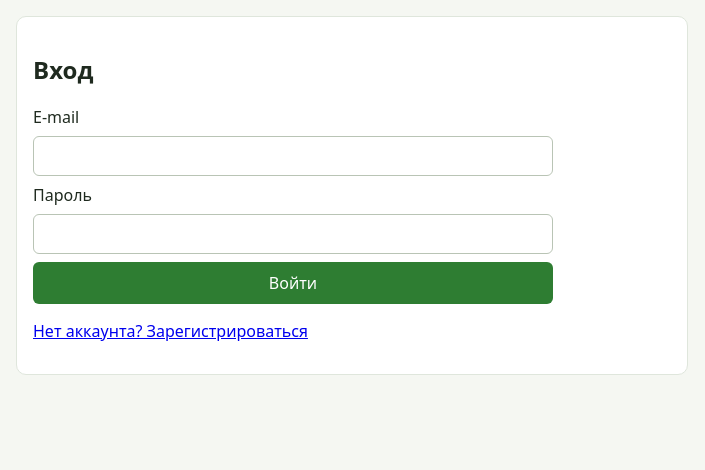
LoginPage › пока запрос идёт, кнопка «Войти» disabled и второй запрос не уходит
Type "farmer@agro.kz" into the field labelled "E-mail" at (293, 156), box [33,136,553,176]
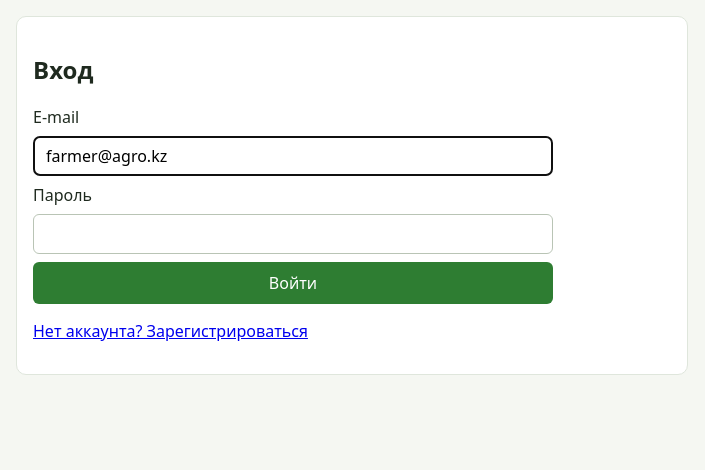
Type "secret123" into the password field labelled "Пароль" at (293, 234), box [33,214,553,254]
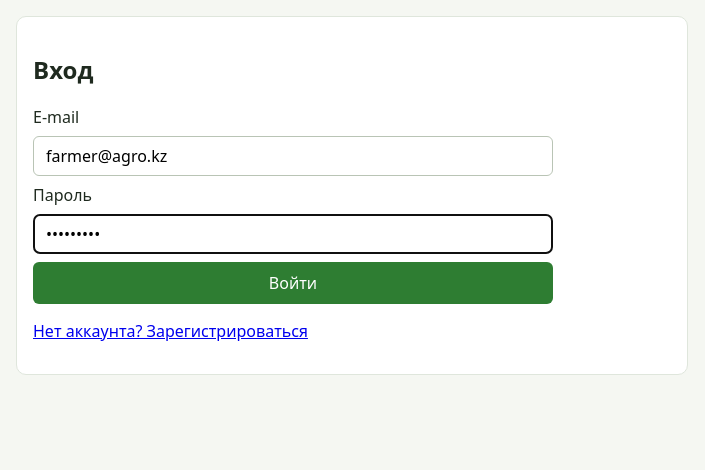
Click the button "Войти" at (293, 283), box [33,262,553,304]
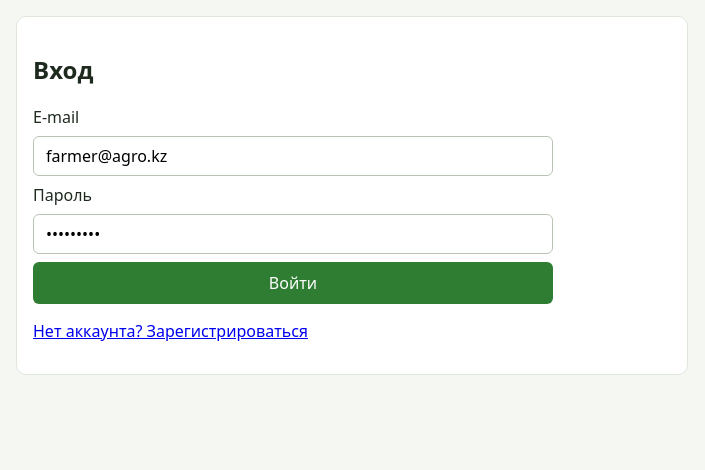
Click the button "Войти" at (293, 283), box [33,262,553,304]
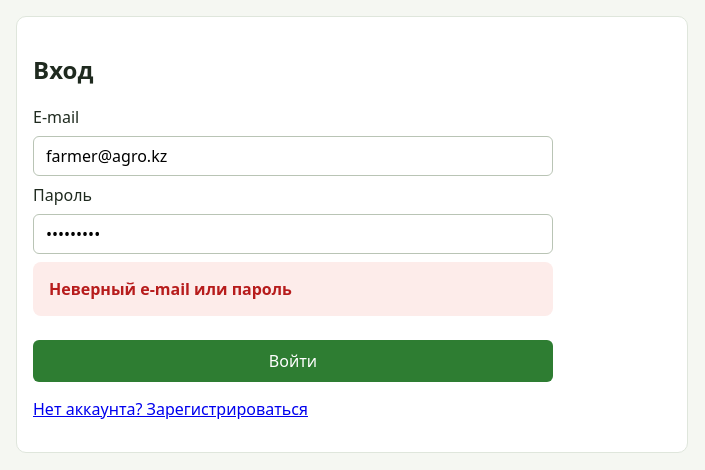
Expected: the text "Неверный e-mail или пароль" is shown, [33,262,553,316]
